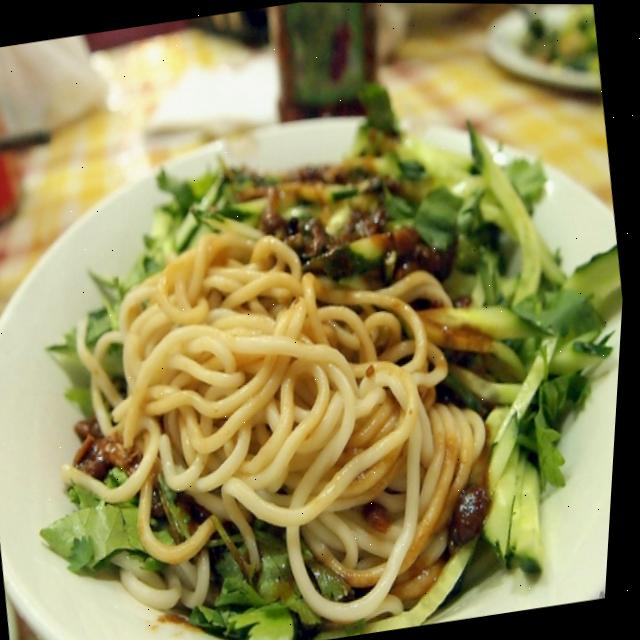面条主食: (0, 80, 636, 640)
